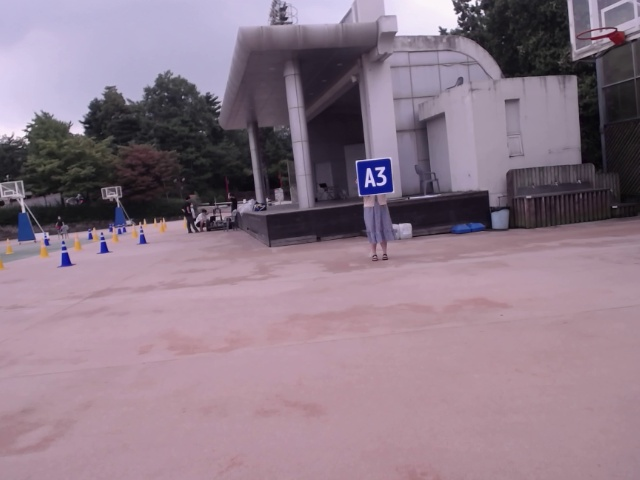delivery_a3: (356, 158, 395, 196)
